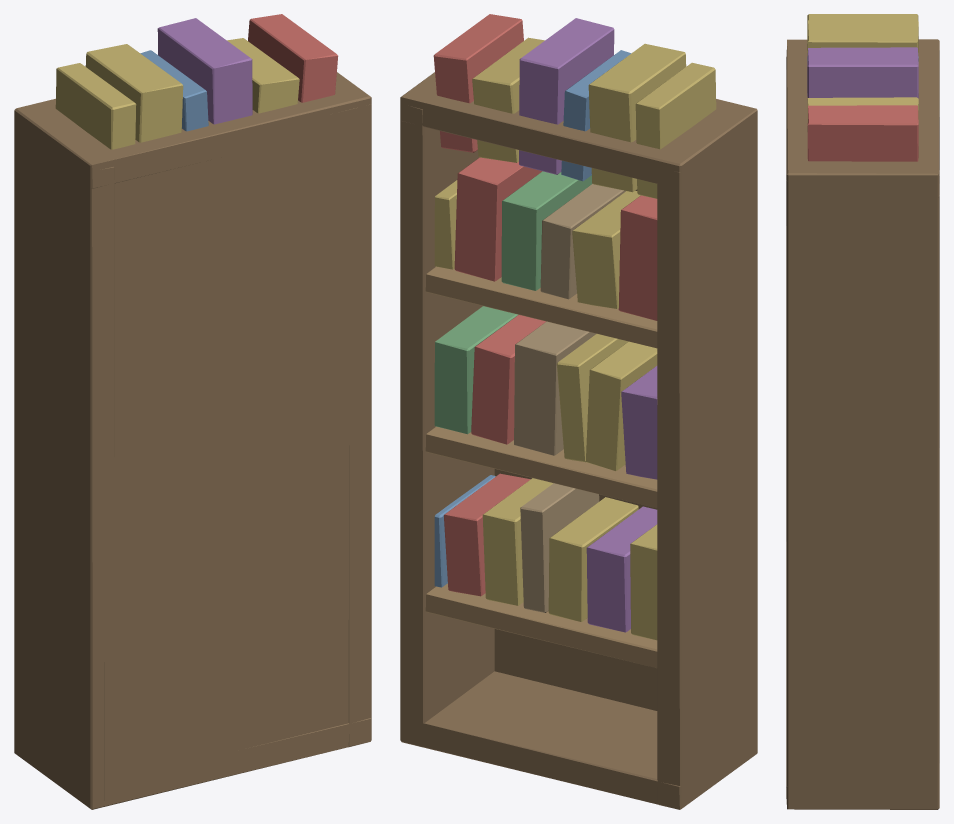
Rendered from dgn_bookshelf.glb.
3 renders of one model, left to right at view 1: azimuth 30°, elevation 25°; view 2: azimuth 150°, elevation 25°; view 3: azimuth 270°, elevation 25°, orthographic.
Parts seen in each view (by area): view 1: dgn_bookshelf; view 2: dgn_bookshelf; view 3: dgn_bookshelf.
Boxes of the visible parts, x1=… form: dgn_bookshelf: x1=14, y1=14, x2=371, y2=809; dgn_bookshelf: x1=400, y1=14, x2=757, y2=809; dgn_bookshelf: x1=786, y1=14, x2=939, y2=809.
Bounding box in the file's own units: 0.92 × 2.2 × 0.44.
